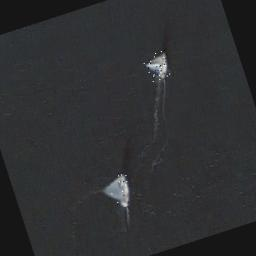boat: (96, 170, 136, 212), (142, 50, 174, 82)
